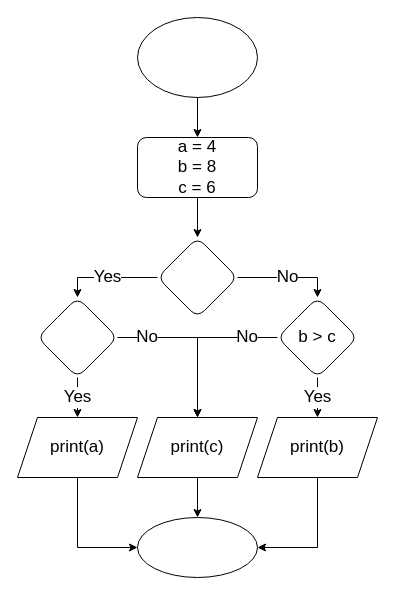
The diagram is 395 pixels wide and 595 high, and some of its shapes have lost their labels. The shapes that lost their labels are listed below. From the top down, each one's centre as x and y in pixels, then its label:
At point 197,57: "Start".
At point 197,277: "a > b".
At point 77,337: "a > c".
At point 197,547: "End".
